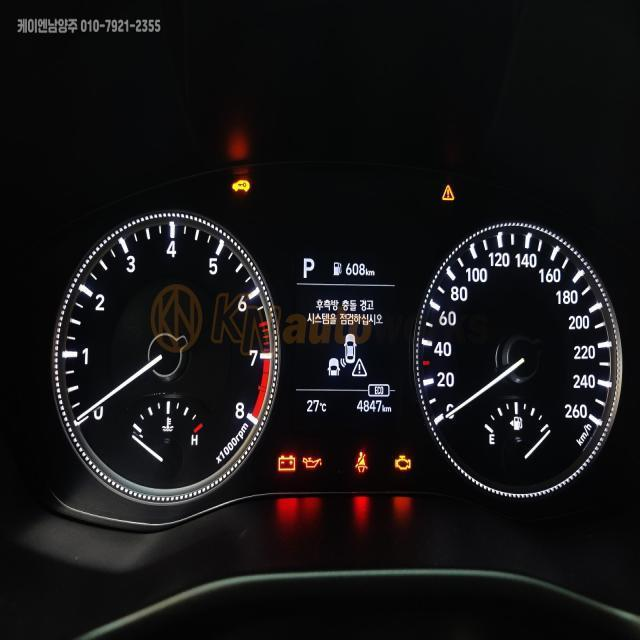Central Warning lamp: (440, 183, 454, 201)
